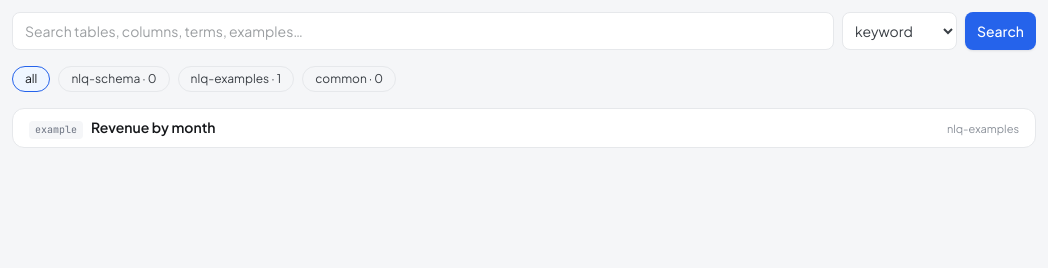
Test: admin › knowledge base: an example expands to its SQL
Check: the text "Revenue by month" is shown, box left=91, top=117, right=216, bottom=137
Check: the text "SELECT date_trunc" is not shown
Step 1. Click the button "example Revenue by month nlq-examples" → coordinates (56, 130), box left=29, top=117, right=1019, bottom=139
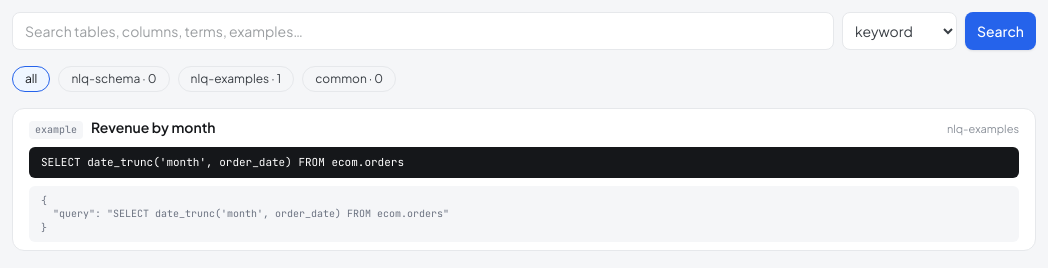
Check: the text "SELECT date_trunc('month', order_date) FROM ecom.orders" is shown, box left=29, top=147, right=1019, bottom=178
